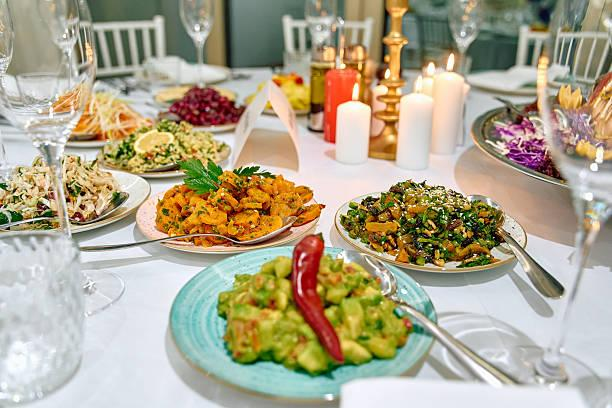Braised Crucian Carp: (169, 244, 437, 402), (134, 163, 322, 251), (334, 189, 521, 273), (0, 157, 149, 236), (93, 119, 231, 178)
